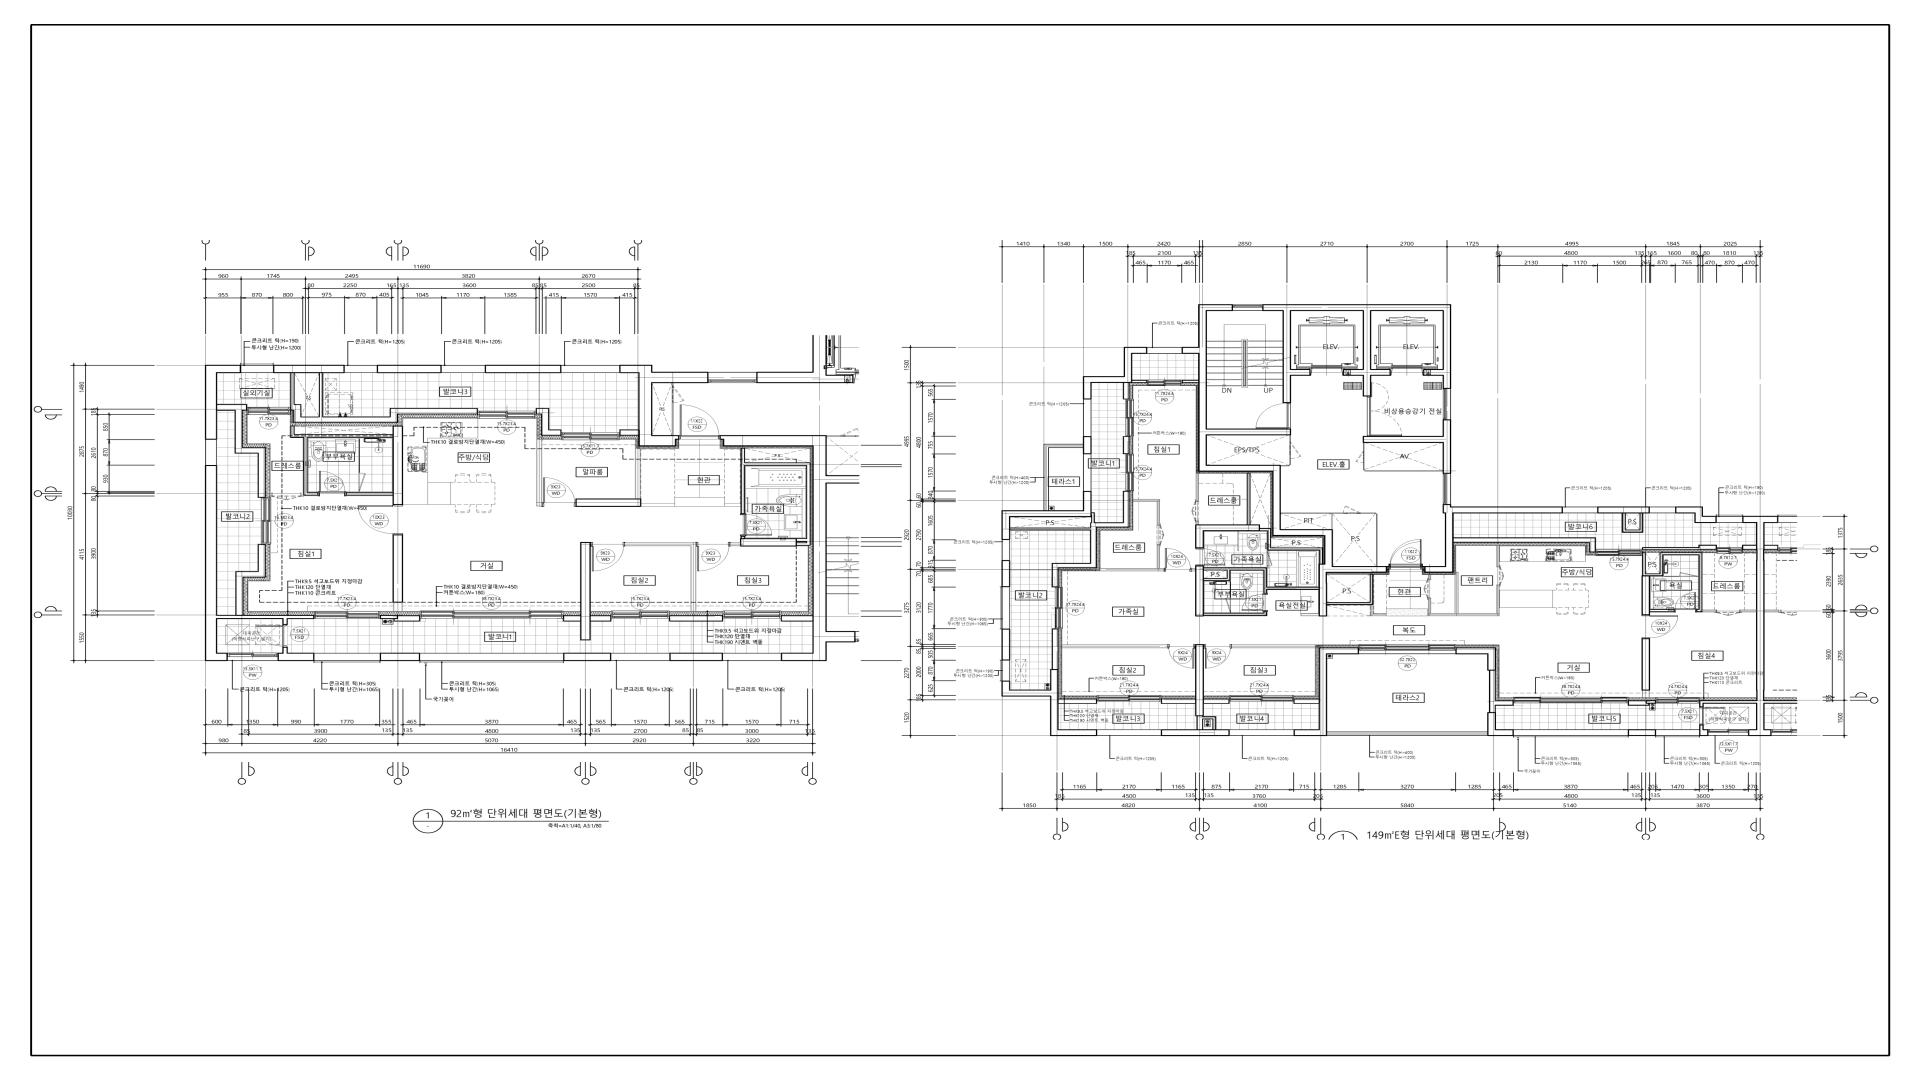door: (679, 405, 720, 439), (357, 505, 404, 535), (1367, 397, 1402, 436), (591, 542, 625, 572), (542, 477, 576, 508), (1390, 539, 1423, 570), (696, 542, 731, 571), (1255, 402, 1291, 429), (1642, 616, 1679, 638), (740, 514, 773, 537), (318, 471, 345, 496), (257, 625, 287, 647), (1167, 645, 1195, 669), (1204, 645, 1232, 669), (1164, 549, 1191, 572), (1195, 549, 1225, 566), (1242, 593, 1269, 612), (1675, 592, 1697, 613), (1700, 708, 1725, 725), (673, 385, 684, 404), (272, 493, 303, 500), (1291, 442, 1302, 459), (1717, 609, 1741, 616), (1156, 525, 1164, 545), (841, 429, 860, 436), (1497, 567, 1505, 585), (1192, 501, 1199, 521), (1424, 580, 1431, 599), (1344, 506, 1361, 513), (359, 473, 365, 491), (1225, 597, 1232, 613), (1356, 451, 1364, 463), (1267, 551, 1273, 566), (1680, 572, 1698, 576)
wall: (1183, 305, 1387, 617), (720, 435, 860, 662), (204, 465, 314, 661), (1262, 305, 1452, 404), (1195, 473, 1323, 564), (1010, 491, 1130, 587), (1424, 504, 1563, 574), (290, 373, 477, 423), (290, 426, 404, 505), (724, 448, 811, 547), (620, 365, 708, 447), (1001, 669, 1097, 736), (1191, 566, 1319, 616), (1160, 645, 1230, 729), (1294, 647, 1360, 736), (576, 448, 675, 506), (1280, 513, 1377, 566), (625, 542, 696, 612), (1364, 419, 1452, 473), (1642, 553, 1717, 616), (757, 335, 853, 384), (563, 542, 611, 641), (1743, 516, 1764, 736), (1001, 491, 1092, 541), (218, 405, 266, 497), (1083, 347, 1147, 400), (1428, 572, 1499, 616), (204, 365, 240, 439), (1327, 574, 1386, 616), (1364, 443, 1443, 472), (235, 545, 266, 616), (1453, 538, 1596, 553), (1101, 545, 1164, 571), (1489, 671, 1514, 712), (1456, 647, 1497, 671), (393, 535, 404, 612), (1676, 506, 1717, 524), (1133, 500, 1160, 525), (537, 409, 562, 436), (1487, 712, 1514, 736), (485, 365, 562, 373), (274, 365, 344, 373), (377, 365, 442, 373), (670, 653, 723, 662), (278, 647, 314, 661), (1642, 640, 1650, 698), (1160, 729, 1229, 736), (1700, 700, 1756, 708), (1062, 645, 1168, 649), (1622, 513, 1643, 533), (1642, 545, 1717, 550), (564, 653, 611, 661), (537, 439, 542, 506), (1597, 506, 1650, 513), (1280, 435, 1291, 467), (1232, 645, 1315, 649), (381, 653, 419, 661), (1001, 629, 1010, 661), (1204, 571, 1230, 582), (670, 616, 723, 621), (380, 615, 421, 621), (1052, 629, 1059, 669), (781, 616, 812, 622), (1002, 560, 1010, 587), (1059, 699, 1097, 704), (1629, 729, 1656, 736), (1083, 436, 1092, 455), (1629, 700, 1656, 705), (1294, 699, 1319, 704), (620, 430, 638, 436), (1124, 436, 1130, 454), (1122, 382, 1129, 400), (1700, 725, 1709, 736), (1742, 545, 1756, 550), (1196, 473, 1199, 501), (1497, 546, 1499, 567), (1300, 613, 1319, 616), (1182, 380, 1199, 382), (1741, 609, 1756, 612), (673, 404, 674, 435), (1131, 380, 1147, 382), (1230, 582, 1232, 597), (827, 435, 841, 436), (673, 384, 674, 385), (1664, 576, 1680, 576), (1267, 554, 1267, 555)
window: (1043, 444, 1083, 510), (419, 653, 564, 663), (419, 611, 563, 618), (1514, 729, 1629, 737), (1358, 645, 1456, 654), (314, 653, 381, 663), (1327, 732, 1487, 736), (1514, 698, 1629, 703), (708, 372, 757, 382), (261, 497, 272, 545), (477, 411, 537, 419), (723, 653, 782, 661), (723, 611, 782, 618), (611, 653, 670, 661), (611, 611, 670, 618), (562, 365, 620, 373), (562, 433, 620, 440), (1000, 587, 1010, 629), (314, 612, 380, 618), (1229, 729, 1294, 736), (1097, 695, 1160, 702), (1230, 695, 1294, 702), (1097, 729, 1160, 736), (227, 653, 278, 661), (442, 365, 485, 373), (1656, 729, 1700, 737), (247, 407, 290, 415), (1083, 400, 1092, 436), (1055, 587, 1063, 629), (1083, 455, 1092, 491), (240, 364, 274, 373), (206, 439, 218, 465), (1596, 550, 1642, 556), (1126, 454, 1134, 491), (1126, 400, 1134, 436), (344, 365, 377, 373), (1709, 729, 1749, 736), (1717, 514, 1743, 524), (1443, 473, 1451, 504), (1443, 389, 1451, 419), (1147, 347, 1183, 353), (1656, 698, 1700, 703), (1147, 380, 1182, 386), (1563, 506, 1597, 513), (1000, 661, 1010, 682), (1233, 305, 1262, 311), (1650, 506, 1676, 513), (1717, 547, 1742, 554), (1002, 541, 1010, 560)
